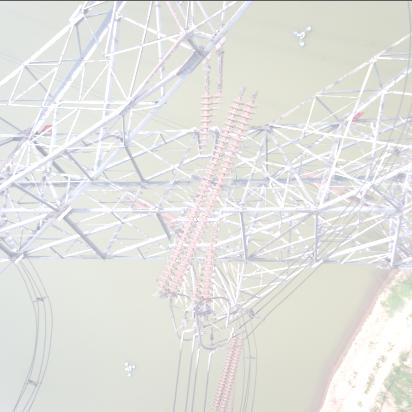insulator: (170, 80, 246, 308), (210, 328, 243, 412)
